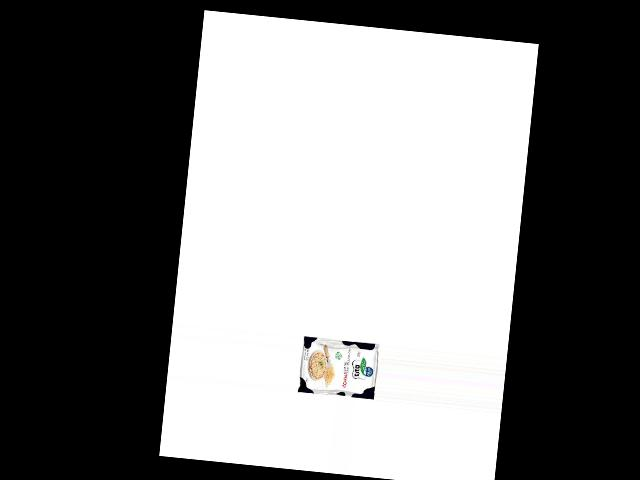cheese: (296, 335, 380, 401)
